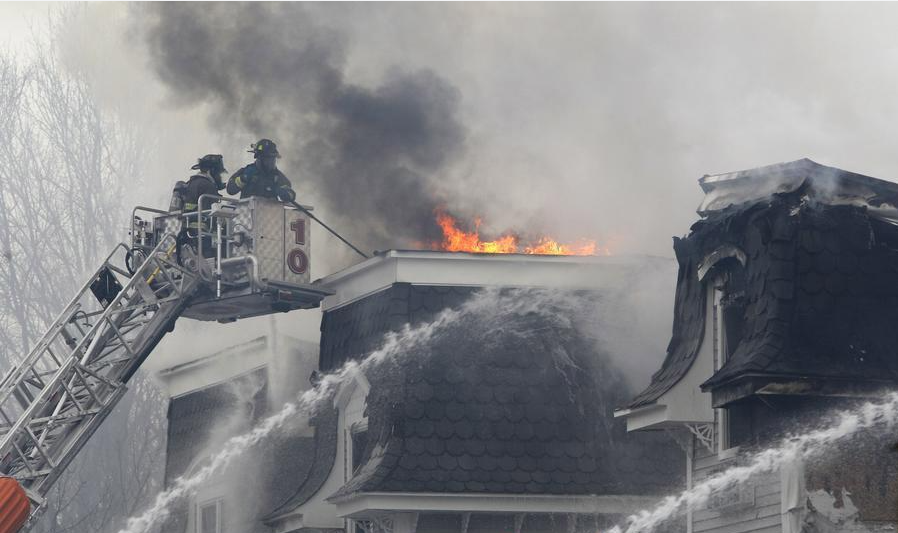喷灌水雾: (361, 257, 712, 427), (607, 387, 897, 533)
